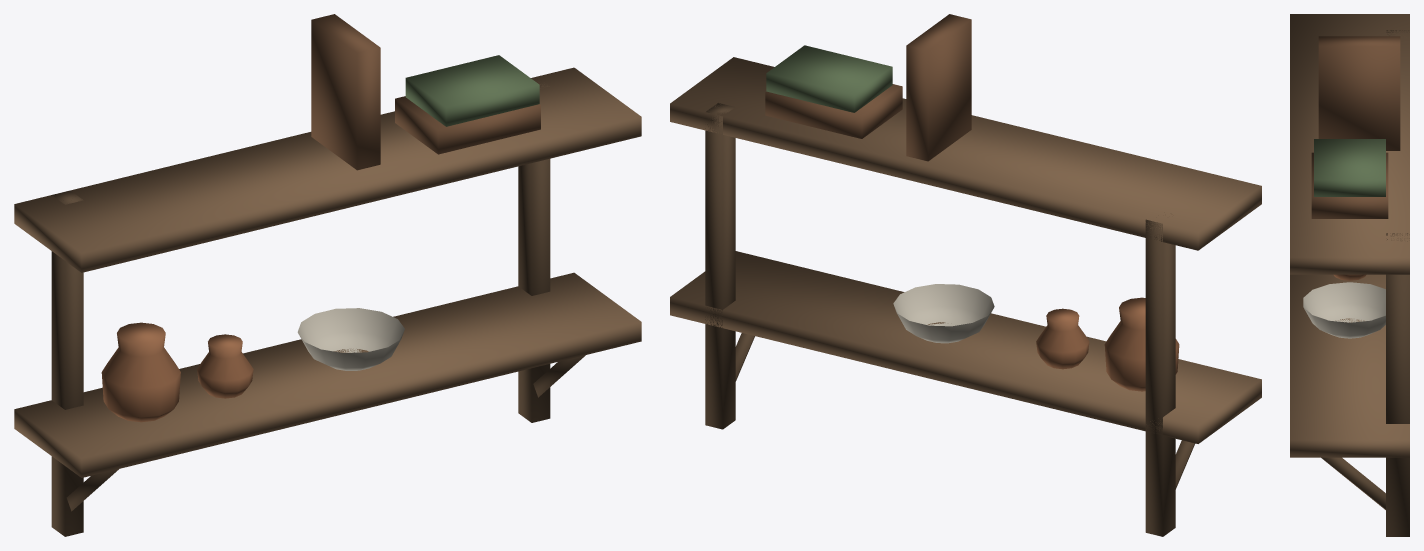
The model's file is mueble-estante.glb.
The picture shows the model from 3 angles, left to right: view 1: azimuth 30°, elevation 25°; view 2: azimuth 150°, elevation 25°; view 3: azimuth 270°, elevation 25°; orthographic projection. The views are drawn at different scales.
Parts seen in each view (by area): view 1: Mueble_estante; view 2: Mueble_estante; view 3: Mueble_estante.
Boxes of the visible parts, left/top/right/bottom form: Mueble_estante: left=14, top=14, right=641, bottom=536; Mueble_estante: left=670, top=14, right=1261, bottom=536; Mueble_estante: left=1290, top=14, right=1409, bottom=536.
Bounding box in the file's own units: 1.2 × 0.92 × 0.25.
